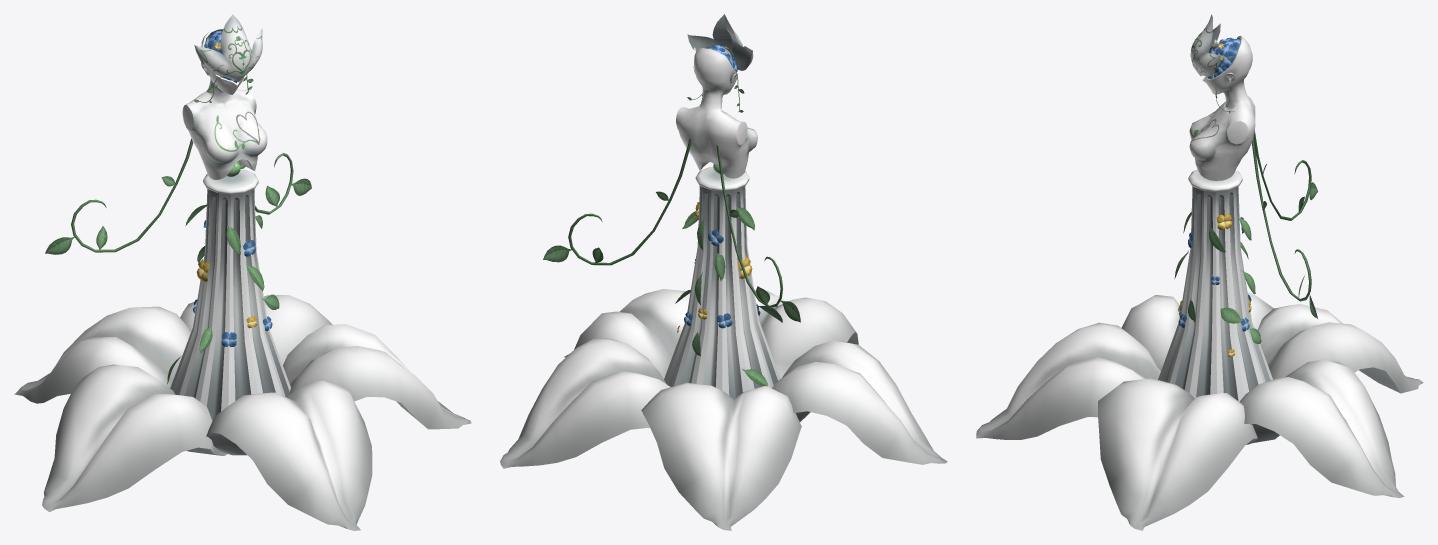
File: ch-joy.fbx
3 views of the same model, side by side, from view 1: azimuth 30°, elevation 25°; view 2: azimuth 150°, elevation 25°; view 3: azimuth 270°, elevation 25° (orthographic). The views are drawn at different scales.
Parts seen in each view (by area): view 1: pPlane23, pPlane5, hashira, pPlane20, pPlane22, bodytop, pPlane21, fronthead, tuda_back_L; view 2: pPlane22, hashira, pPlane21, pPlane23, bodytop, pPlane20, pPlane5, fronthead, tuda_back_R, tuda_back_L; view 3: pPlane20, hashira, pPlane21, pPlane5, pPlane22, bodytop, pPlane23, fronthead, tuda_back_R, tuda_back_L.
Boxes of the visible parts, x1=… form: pPlane23: x1=42, y1=364, x2=227, y2=511; pPlane5: x1=206, y1=380, x2=372, y2=530; hashira: x1=170, y1=169, x2=290, y2=420; pPlane20: x1=283, y1=324, x2=471, y2=429; pPlane22: x1=14, y1=306, x2=190, y2=403; bodytop: x1=182, y1=27, x2=267, y2=179; pPlane21: x1=180, y1=295, x2=332, y2=364; fronthead: x1=194, y1=14, x2=262, y2=81; tuda_back_L: x1=71, y1=138, x2=193, y2=252; pPlane22: x1=641, y1=382, x2=801, y2=530; hashira: x1=664, y1=167, x2=780, y2=398; pPlane21: x1=500, y1=338, x2=670, y2=468; pPlane23: x1=772, y1=340, x2=947, y2=464; bodytop: x1=676, y1=48, x2=757, y2=178; pPlane20: x1=564, y1=289, x2=690, y2=378; pPlane5: x1=755, y1=290, x2=858, y2=378; fronthead: x1=687, y1=14, x2=753, y2=70; tuda_back_R: x1=568, y1=138, x2=691, y2=265; tuda_back_L: x1=716, y1=145, x2=782, y2=308; pPlane20: x1=1098, y1=378, x2=1257, y2=530; hashira: x1=1158, y1=169, x2=1272, y2=401; pPlane21: x1=1239, y1=359, x2=1404, y2=498; pPlane5: x1=976, y1=322, x2=1160, y2=439; pPlane22: x1=1258, y1=304, x2=1423, y2=393; bodytop: x1=1189, y1=36, x2=1255, y2=180; pPlane23: x1=1121, y1=292, x2=1273, y2=370; fronthead: x1=1190, y1=14, x2=1220, y2=76; tuda_back_R: x1=1252, y1=135, x2=1311, y2=301; tuda_back_L: x1=1254, y1=131, x2=1311, y2=220.
Size of the model in its own units: 332 by 333 by 321.
2 materials, 2 textured.
